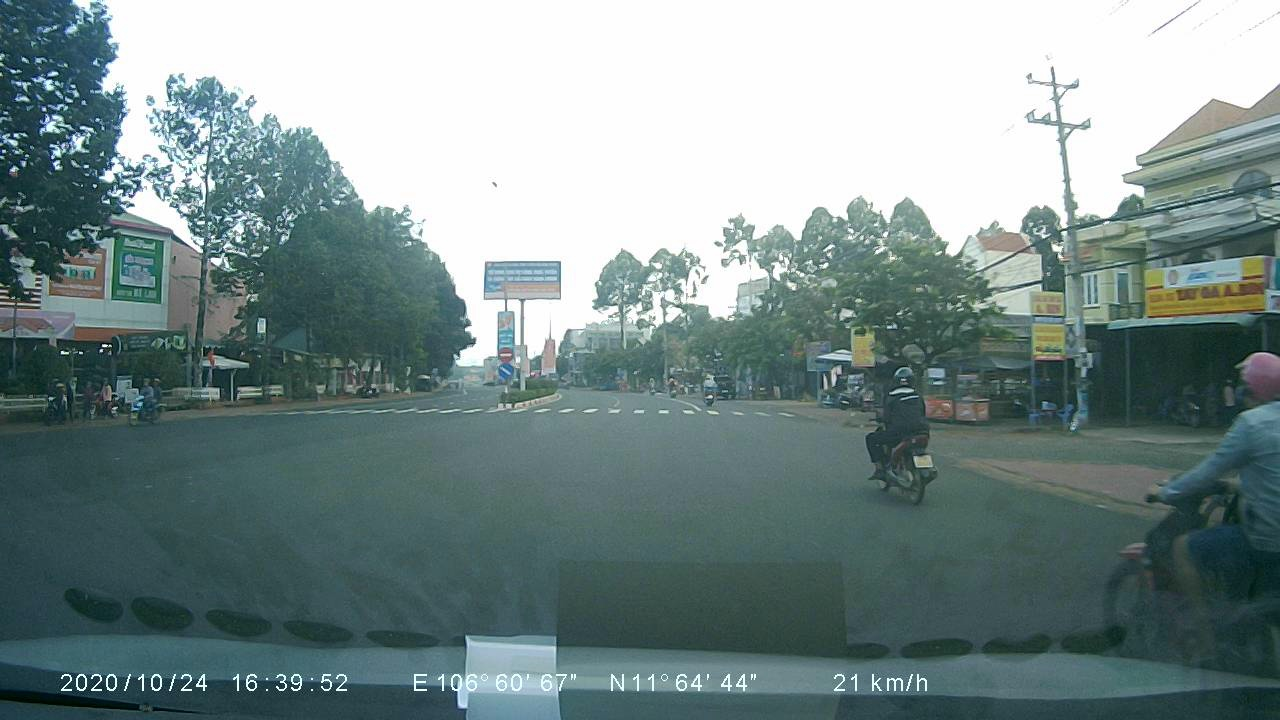Cam di nguoc chieu: (493, 347, 516, 361)
Huong di phai re phai: (495, 363, 514, 380)
